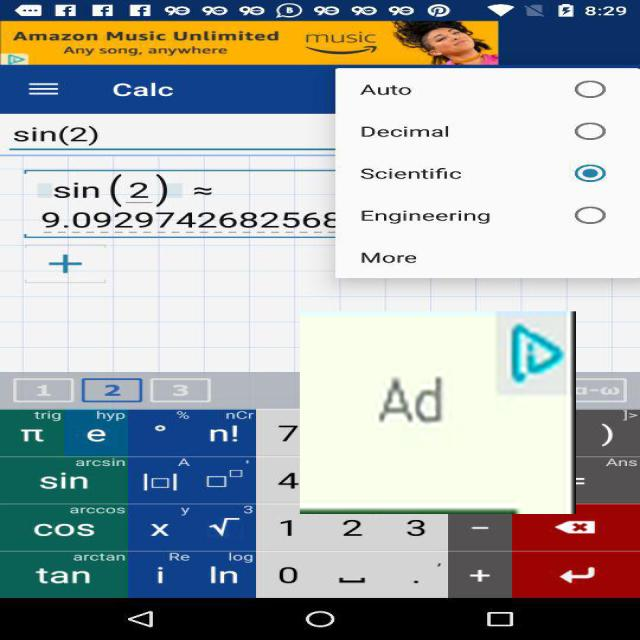sneaking: (300, 311, 576, 514)
